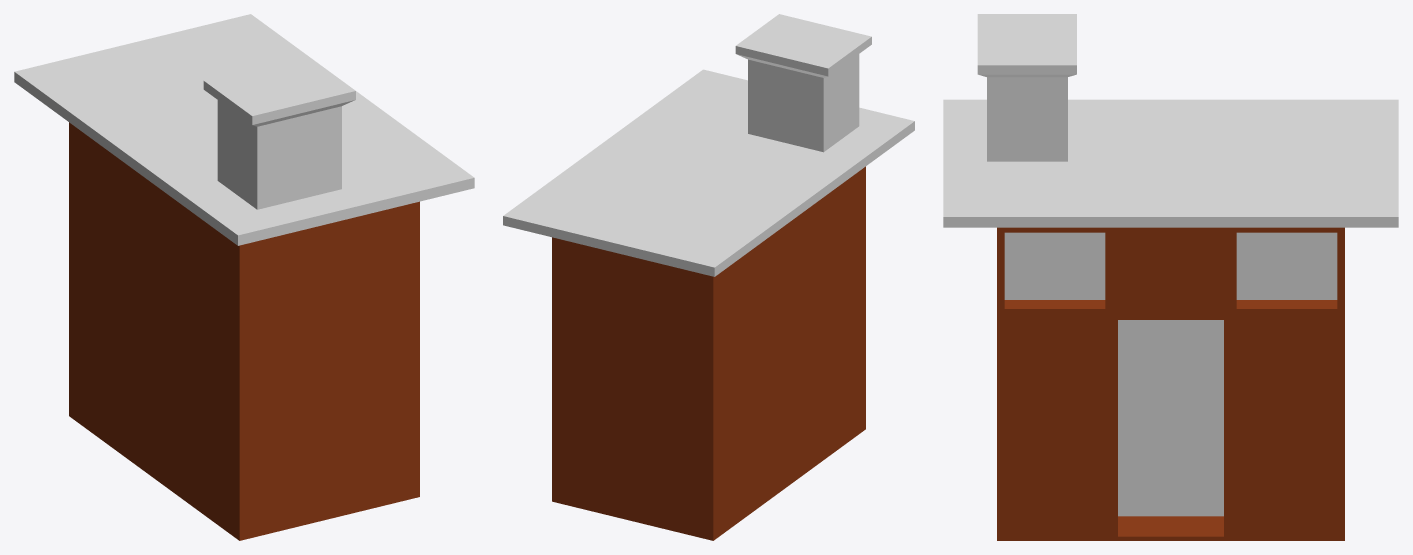
File: House.fbx
3 renders of one model, left to right at view 1: azimuth 30°, elevation 25°; view 2: azimuth 150°, elevation 25°; view 3: azimuth 270°, elevation 25°, orthographic. The views are drawn at different scales.
Visible parts, largest first — view 1: Cube; view 2: Cube; view 3: Cube.
Part boxes in pixels (x1,y1,x2,y2): Cube: (14,14,474,540); Cube: (503,14,914,540); Cube: (943,14,1398,540).
Size of the model in its own units: 116 by 202 by 190.
